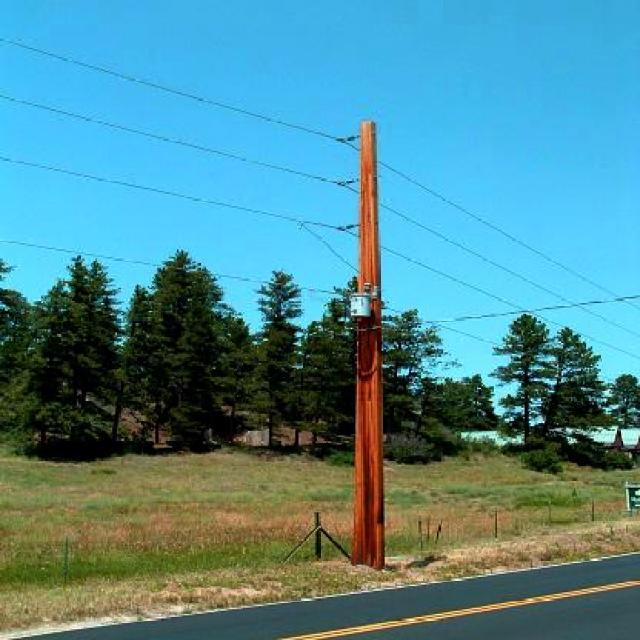pole: (349, 122, 385, 571)
transformer: (348, 295, 372, 318)
wire: (0, 32, 628, 300), (0, 97, 575, 304), (0, 154, 531, 311), (0, 239, 509, 349)
